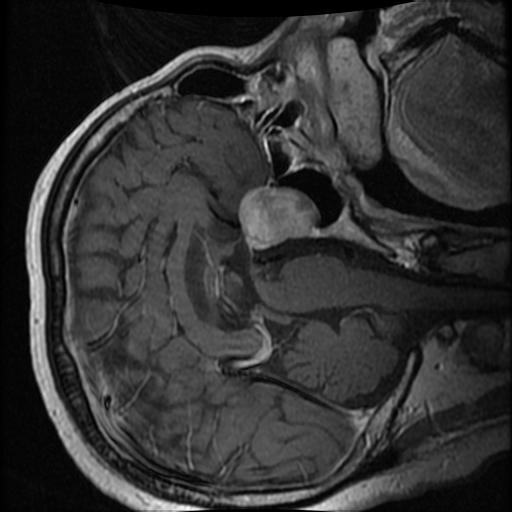pituitary tumour: (238, 185, 318, 245)
